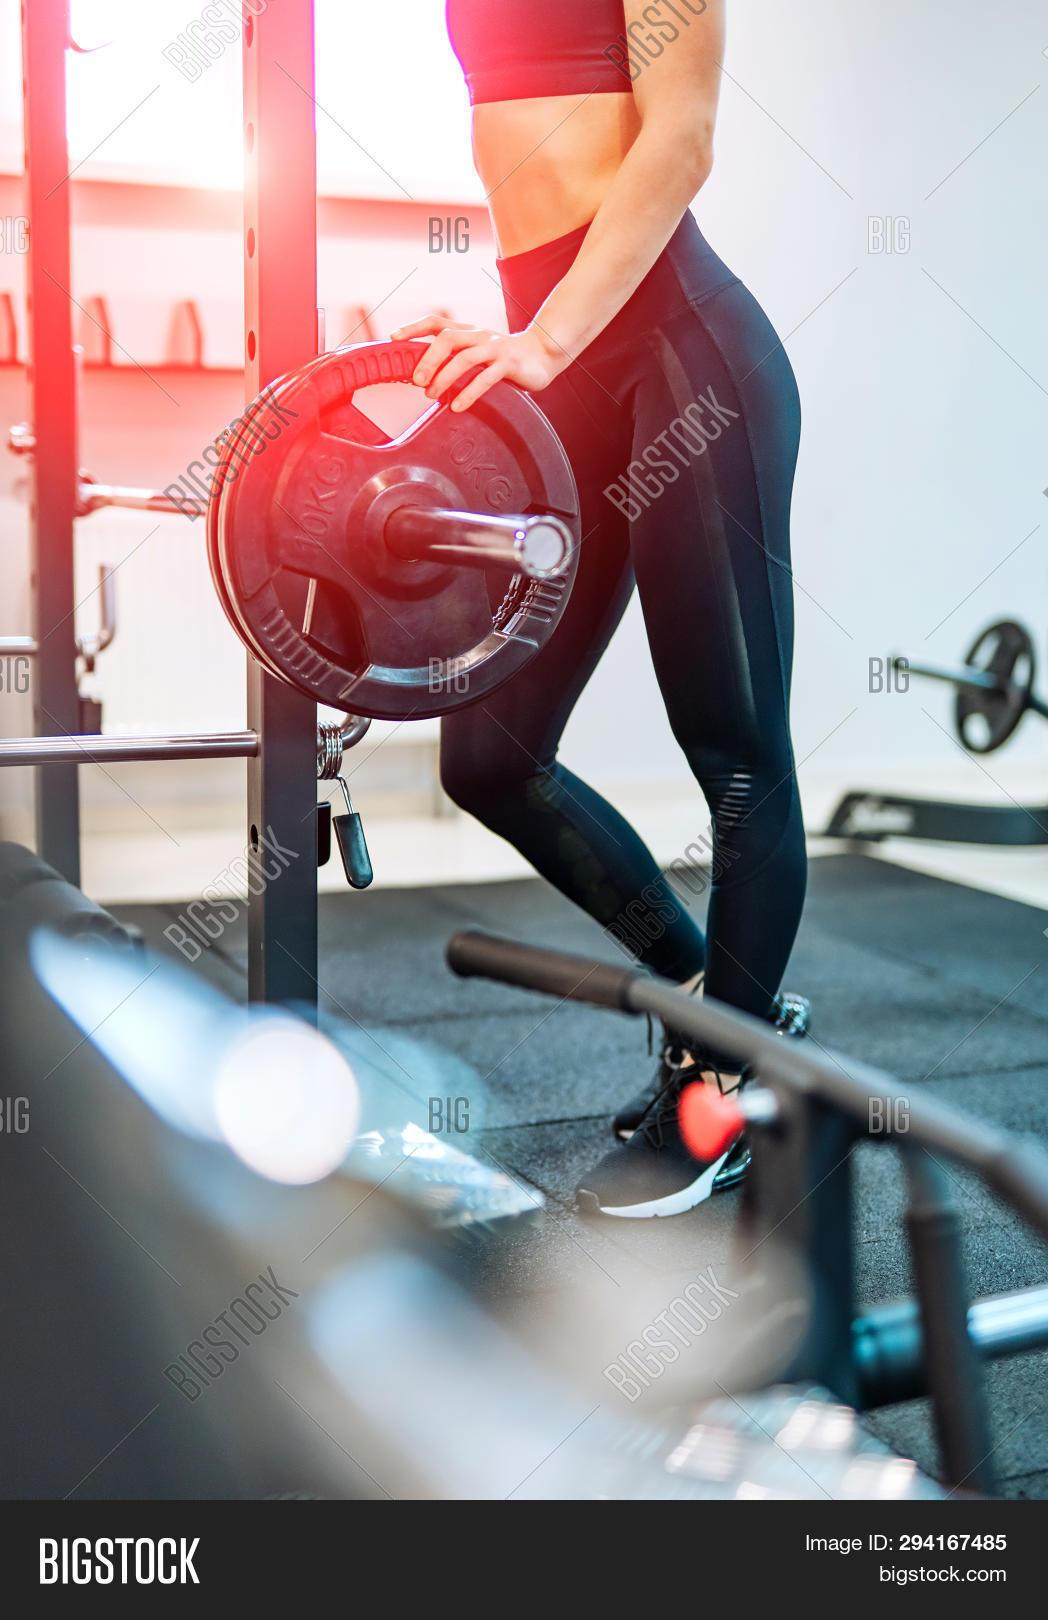Barbell: (513, 501, 594, 597)
